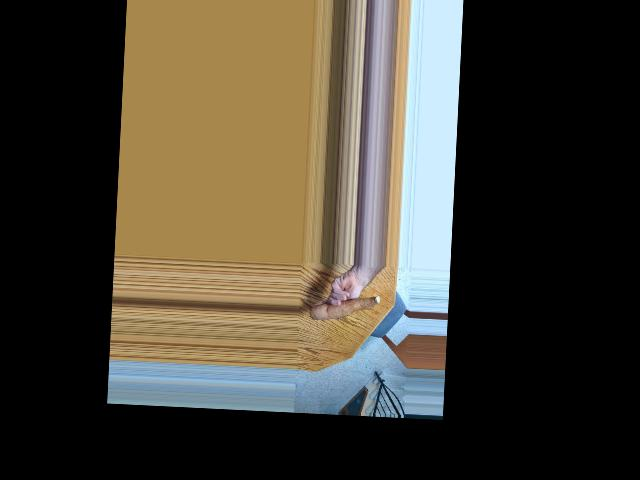sweet_potato: (308, 290, 381, 324)
